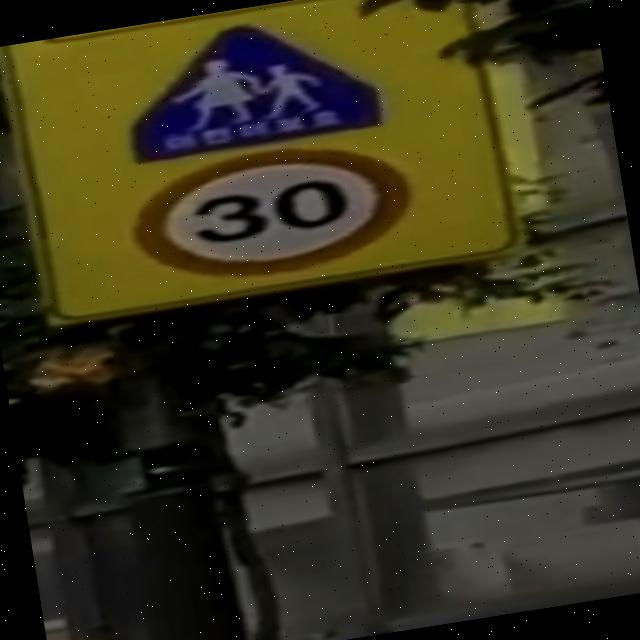Ograniczenie predkosci do 30: (124, 130, 420, 294)
